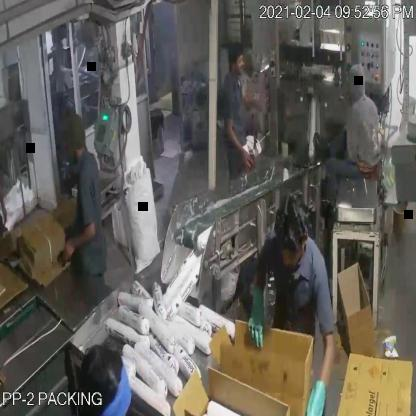glove: (243, 264, 271, 353), (296, 373, 334, 416)
no_glove: (52, 223, 102, 268), (222, 117, 260, 176)
